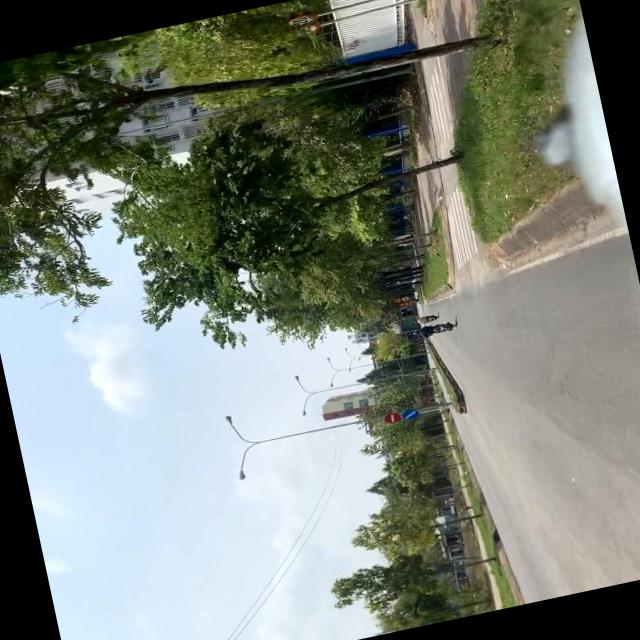P-102: (383, 409, 402, 424)
R-302a: (402, 407, 418, 419)
